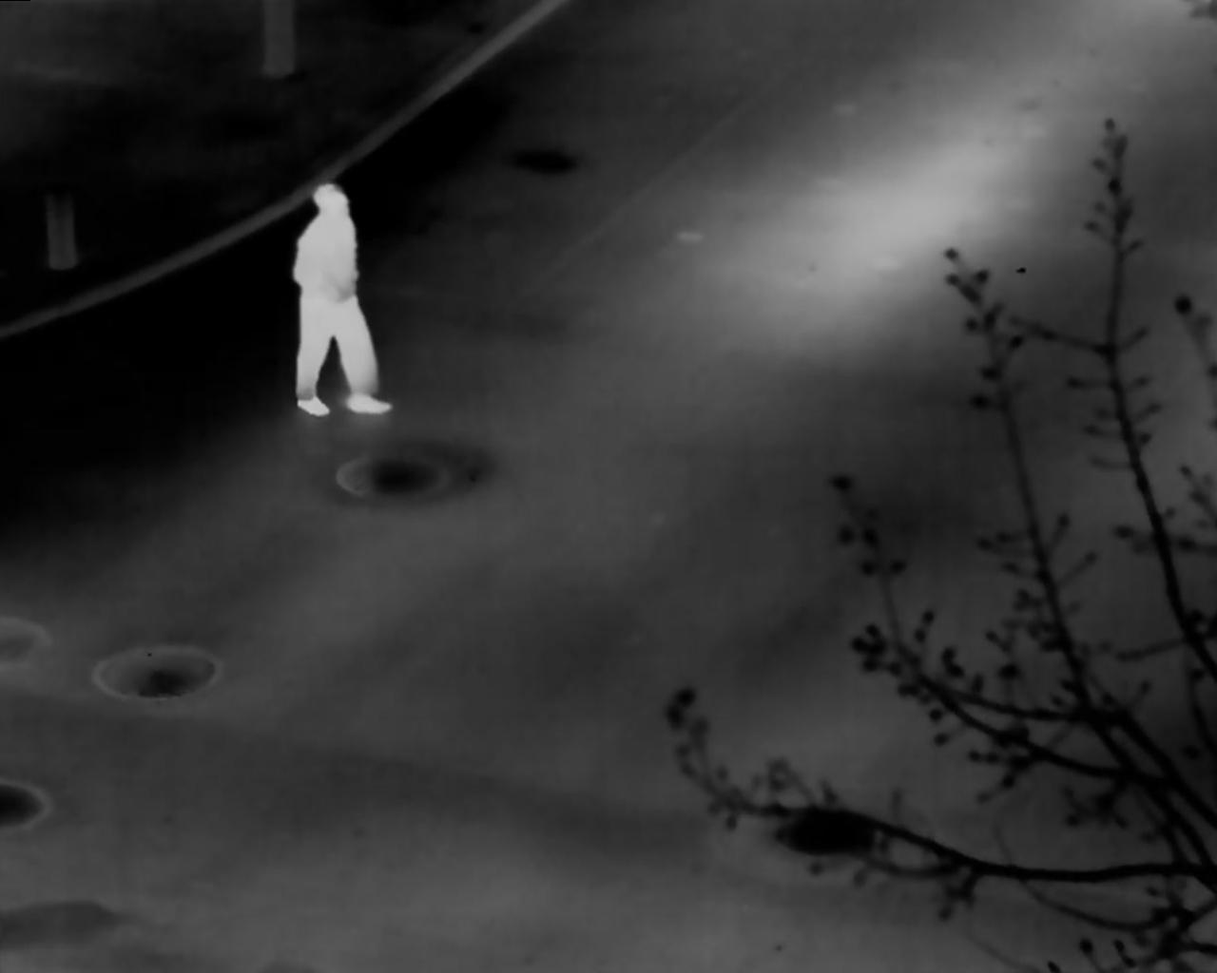person: (290, 183, 392, 417)
